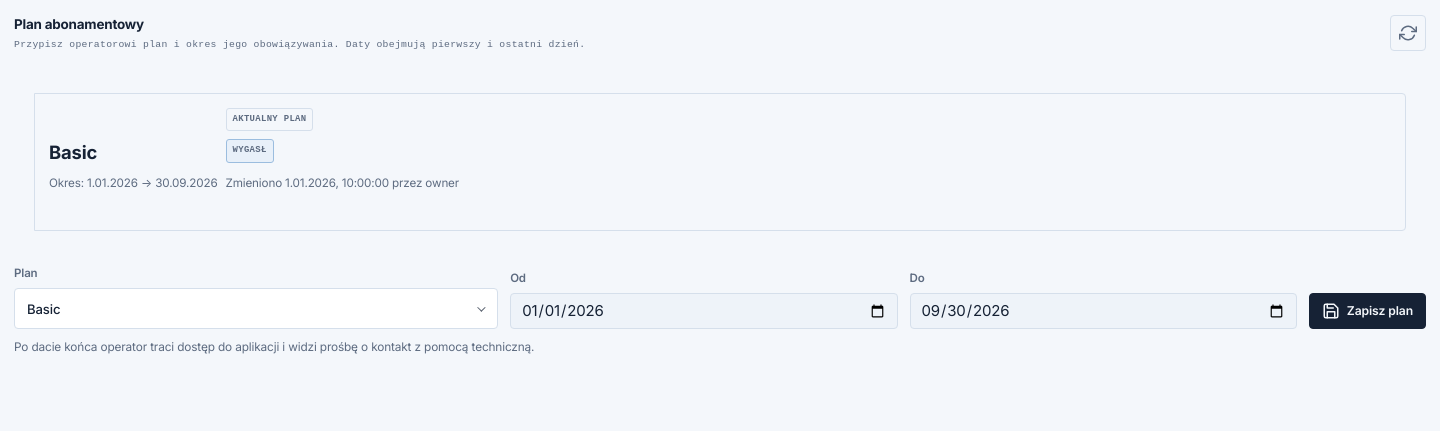
Test: OperatorSubscriptionPanel › shows backend error when saving fails
Step 1. Click the button "Zapisz plan" → (1367, 311), box [1309, 293, 1426, 329]
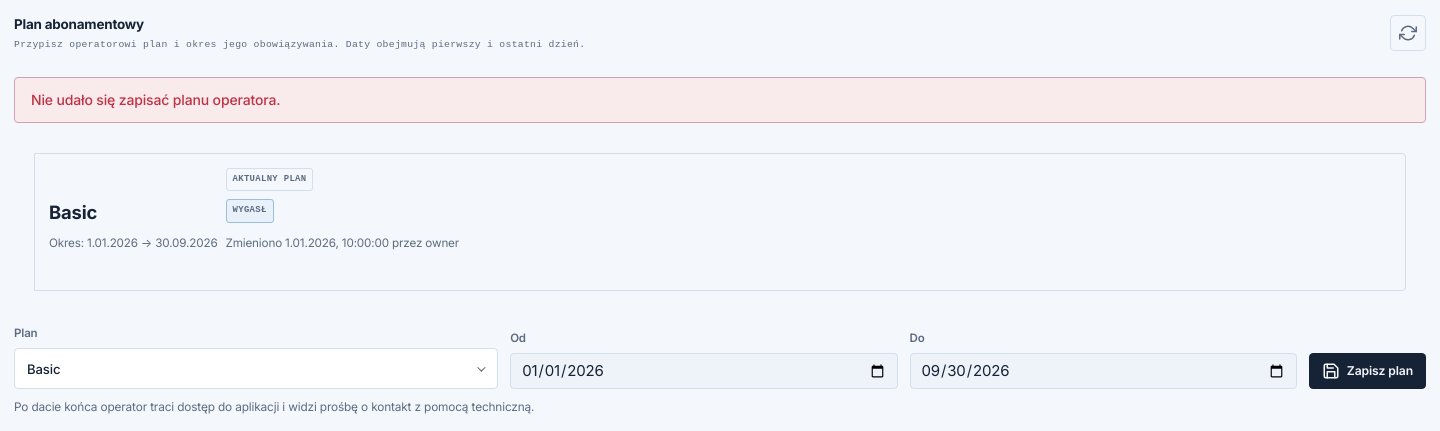
Check: the text "Nie udało się zapisać planu operatora." is shown, box [31, 91, 280, 108]
